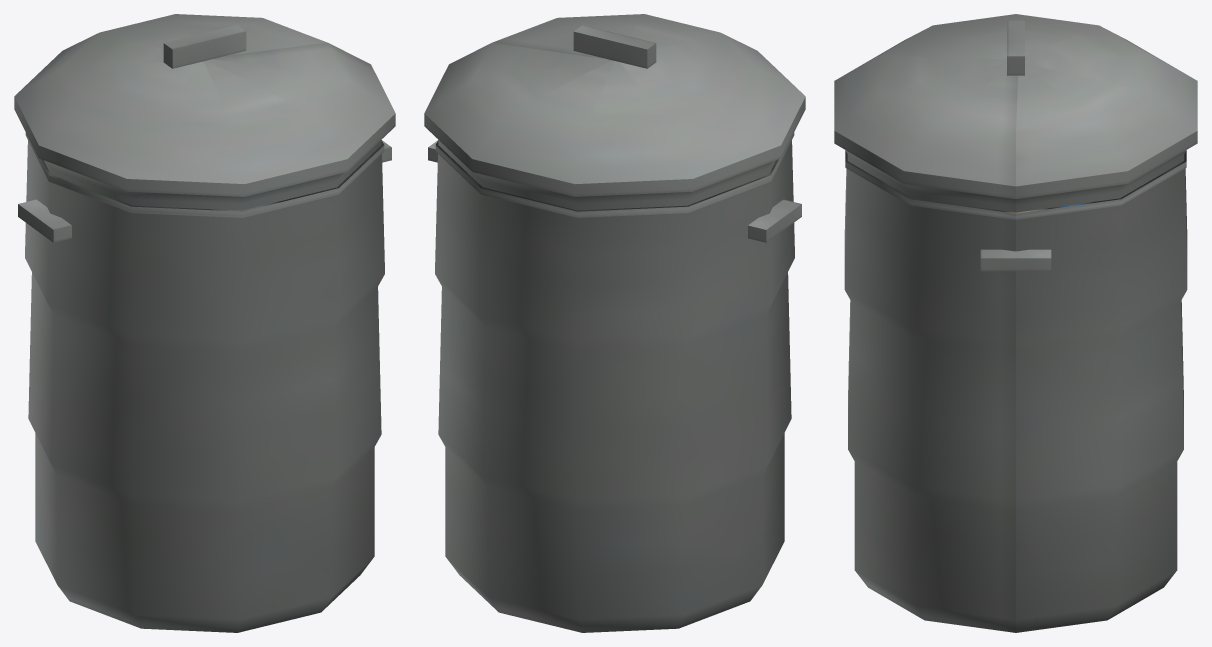
The model's file is trash_can.obj.
3 renders of one model, left to right at view 1: azimuth 30°, elevation 25°; view 2: azimuth 150°, elevation 25°; view 3: azimuth 270°, elevation 25°, orthographic.
Parts seen in each view (by area): view 1: trash_can, trash_can_lid; view 2: trash_can, trash_can_lid; view 3: trash_can, trash_can_lid.
Part boxes in pixels (x1,y1,x2,y2): trash_can: [18, 132, 391, 632]; trash_can_lid: [14, 14, 395, 196]; trash_can: [428, 132, 801, 632]; trash_can_lid: [424, 14, 805, 196]; trash_can: [844, 150, 1187, 632]; trash_can_lid: [834, 14, 1197, 199].
Bounding box in the file's own units: 0.55 × 0.825 × 0.5136.
1 material, 1 textured.
